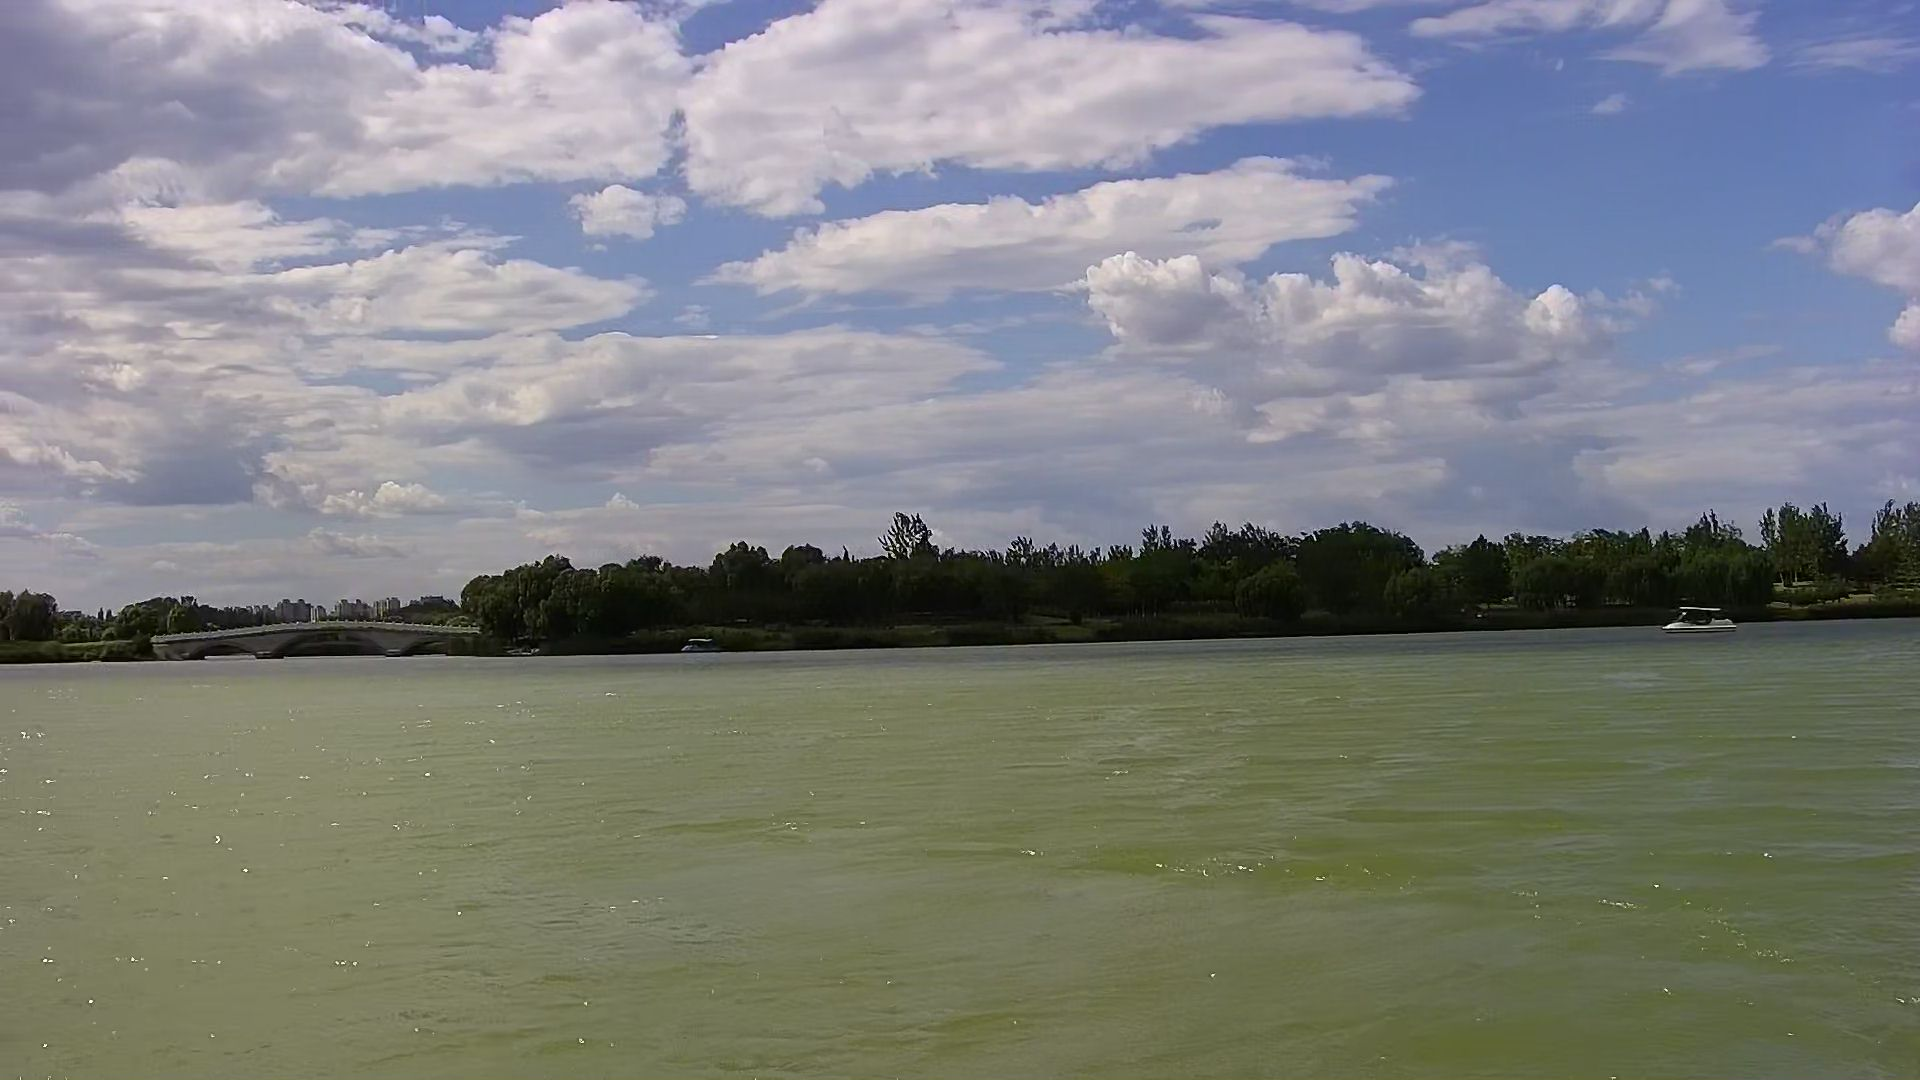boat: (1658, 603, 1743, 636), (678, 636, 723, 654)
bridge: (157, 617, 480, 659)
